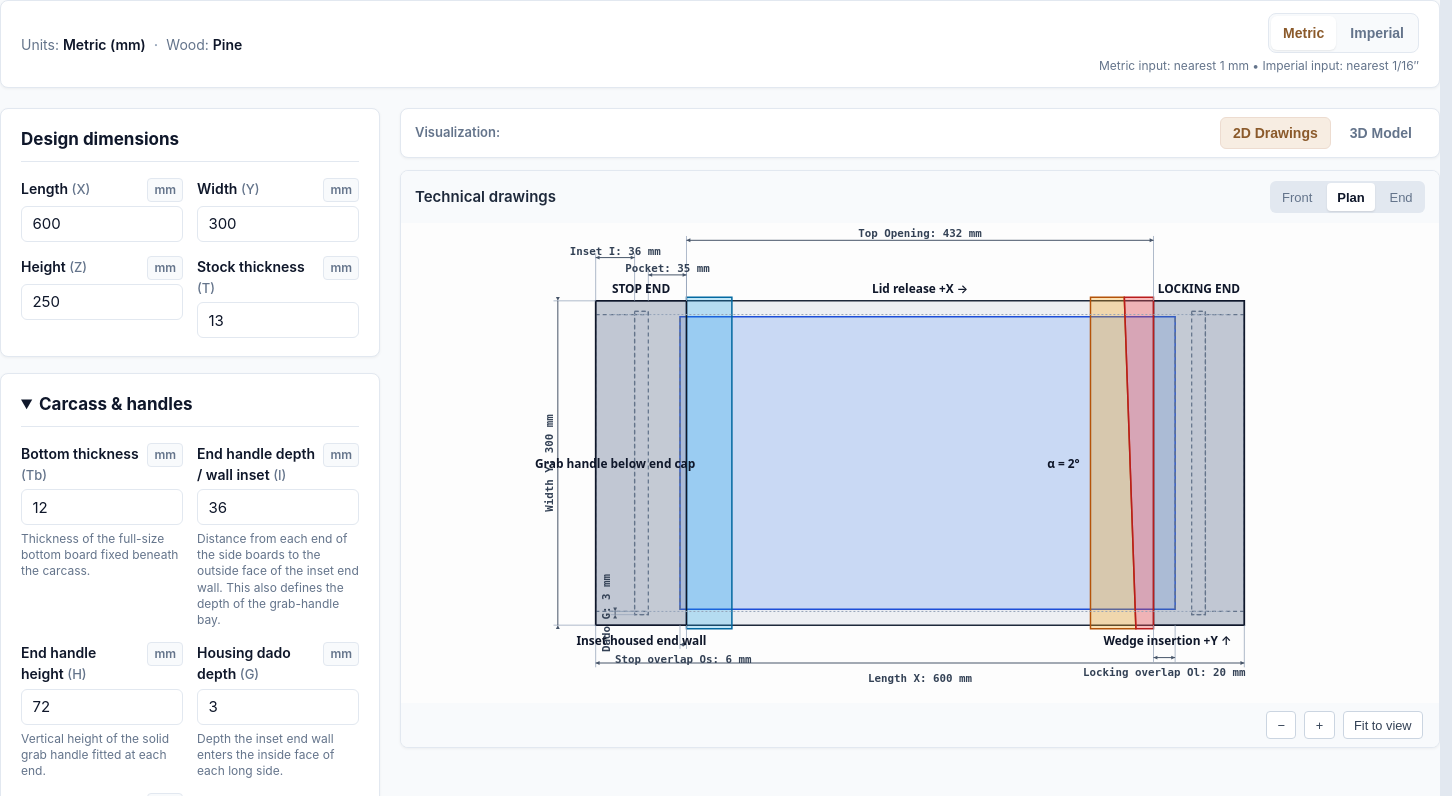
Test: DesignEditor Component › preserves exact canonical millimetre precision when cycling metric -> imperial -> metric -> imperial
Click the radio button labelled "Imperial": (1377, 33) x1=1338 y1=16 x2=1416 y2=50
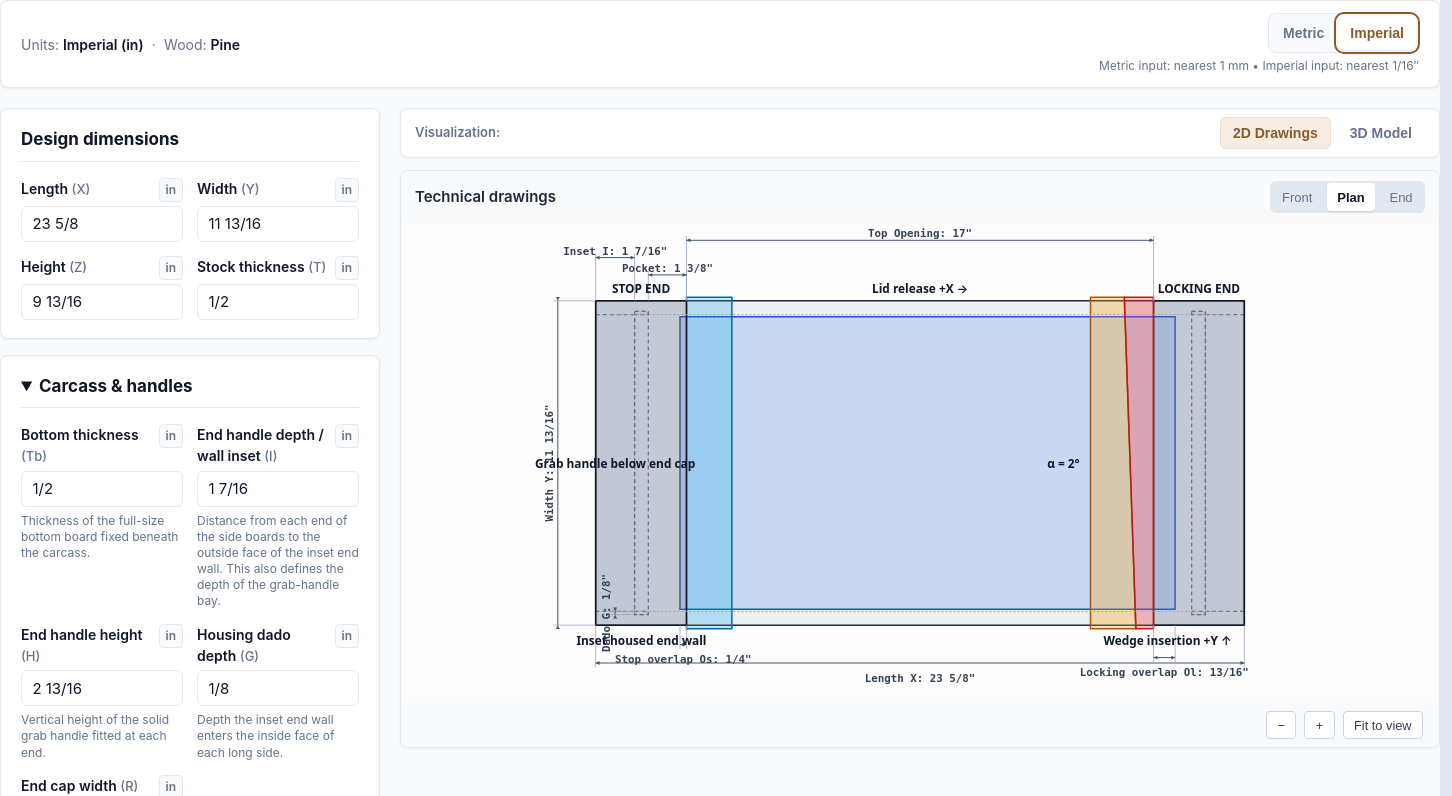
Result: the field labelled "Stock thickness (T)" holds "1/2" at x1=197 y1=284 x2=359 y2=320
Switch to metric: rounded display is 13, but canonical remains 12.7
Click the radio button labelled "Metric": (1304, 33) x1=1271 y1=16 x2=1336 y2=50
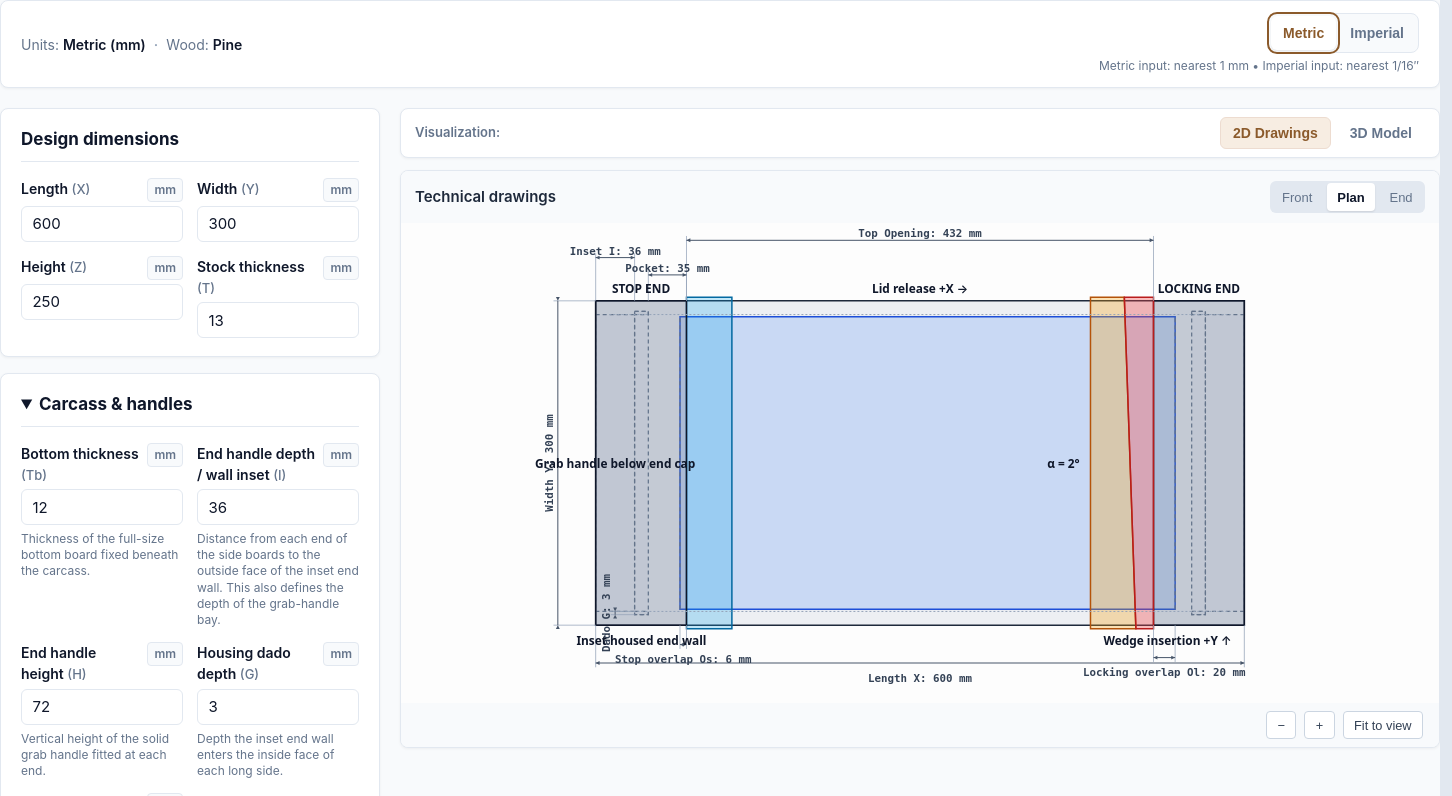
Result: the field labelled "Stock thickness (T)" holds "13" at x1=197 y1=302 x2=359 y2=338
Switch back to imperial: displays 1/2 again without drift
Click the radio button labelled "Imperial": (1377, 33) x1=1338 y1=16 x2=1416 y2=50
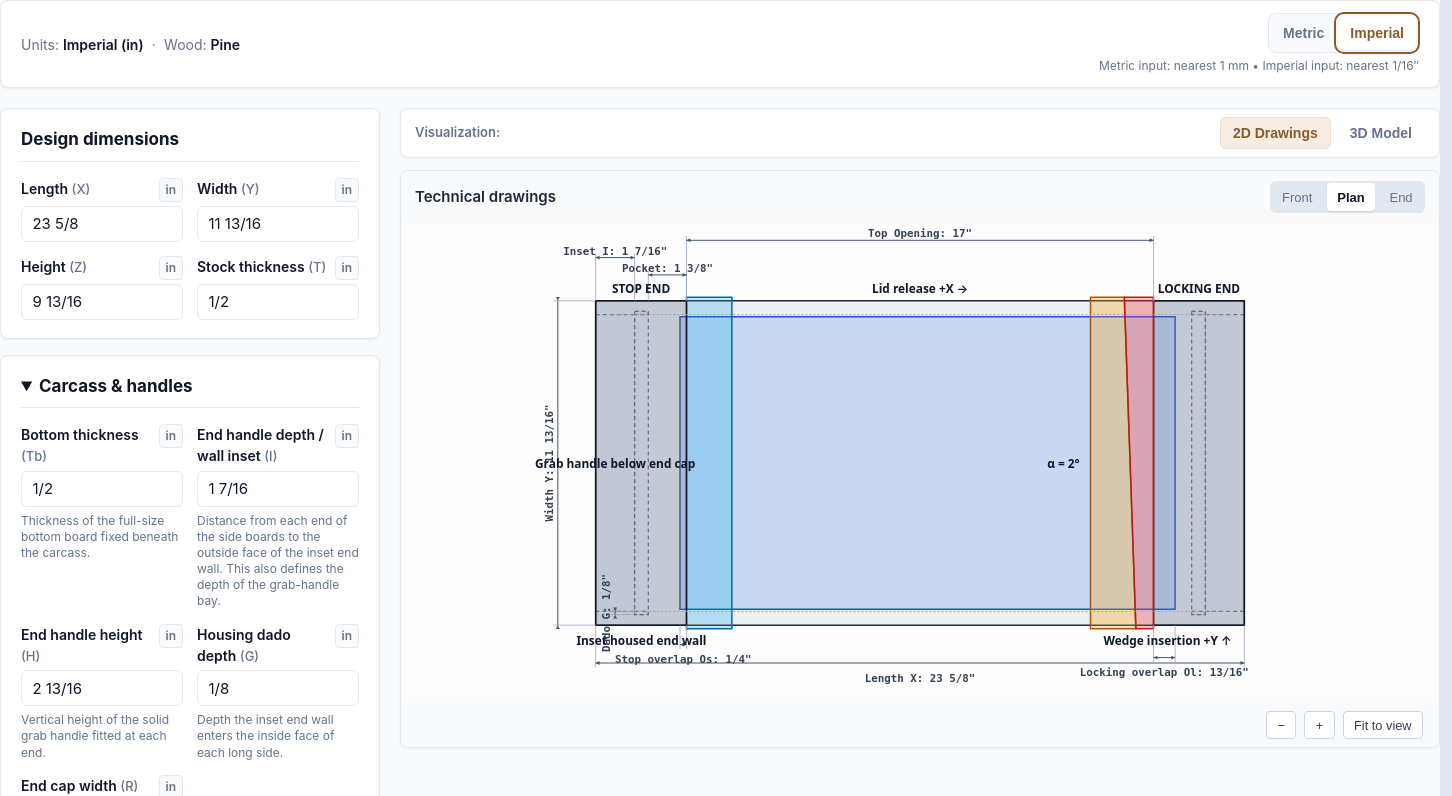
Result: the field labelled "Stock thickness (T)" holds "1/2" at x1=197 y1=284 x2=359 y2=320
